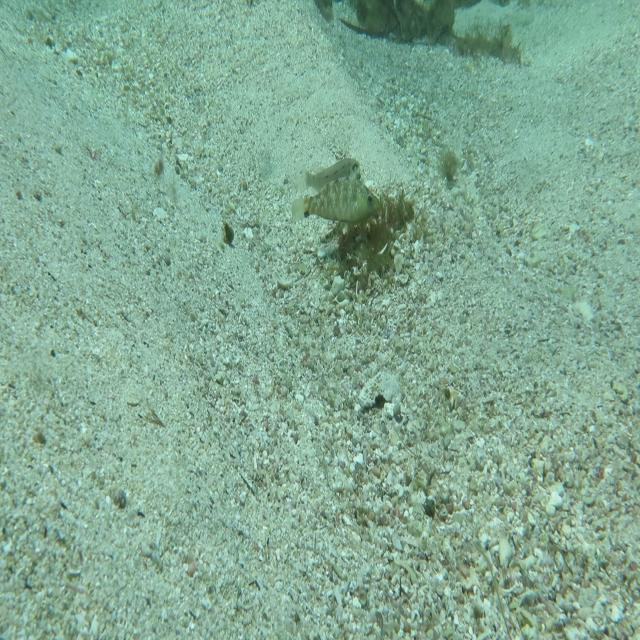ROLL: (288, 165, 387, 231)
female: (295, 153, 363, 193)
nest: (316, 175, 419, 311)
